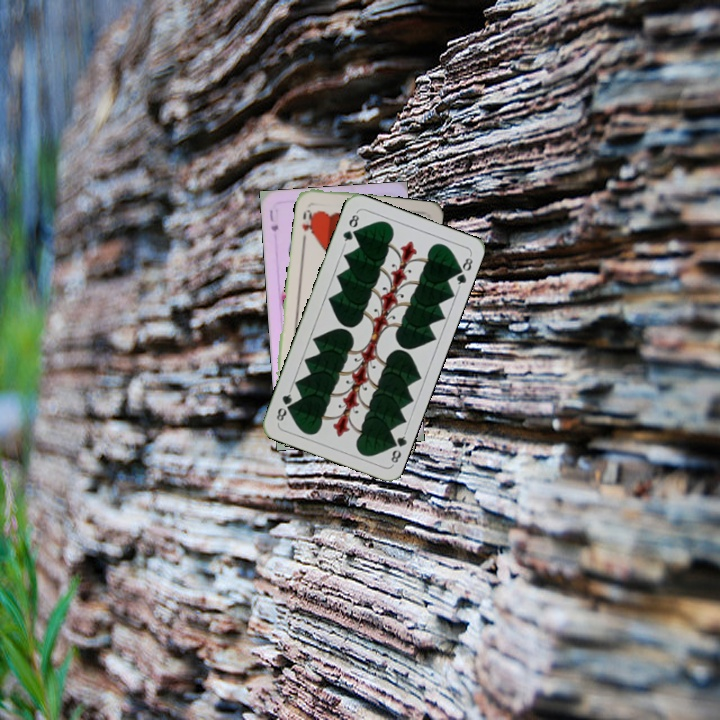G8: (385, 428, 409, 467), (339, 208, 362, 247)
HO: (298, 205, 317, 236)
SU: (265, 206, 281, 234)
